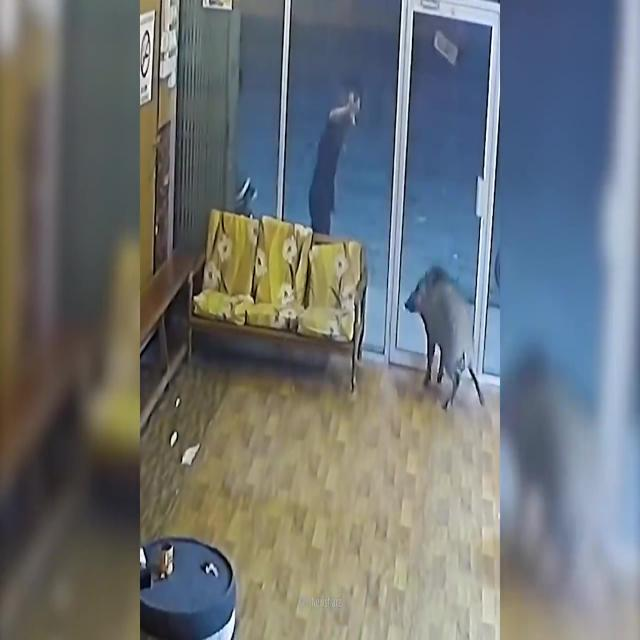pig: (368, 224, 503, 402)
